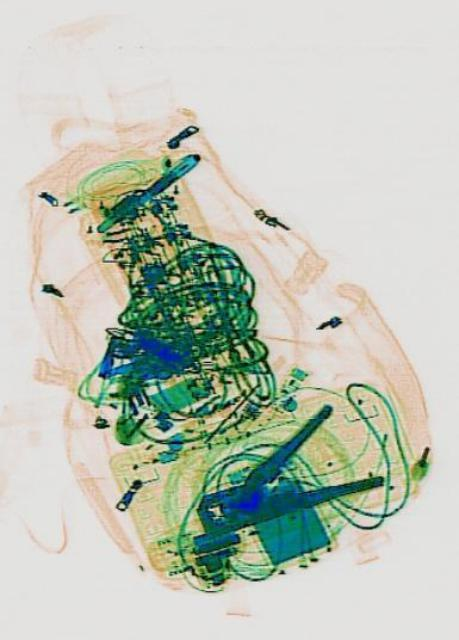Pliers: (183, 388, 382, 568)
